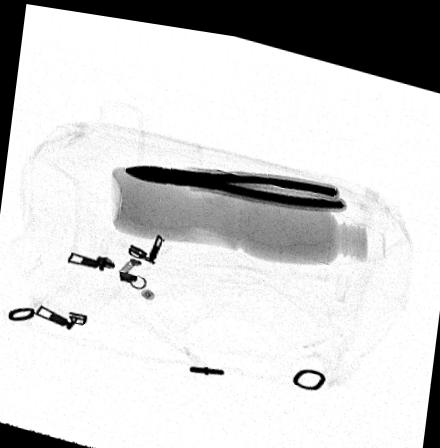Pliers: (125, 160, 347, 201)
